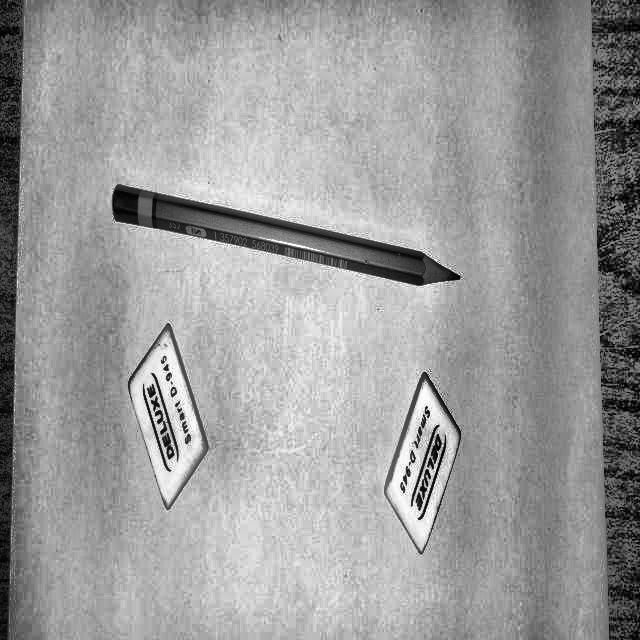eraser: (344, 375, 488, 526), (136, 342, 222, 515)
